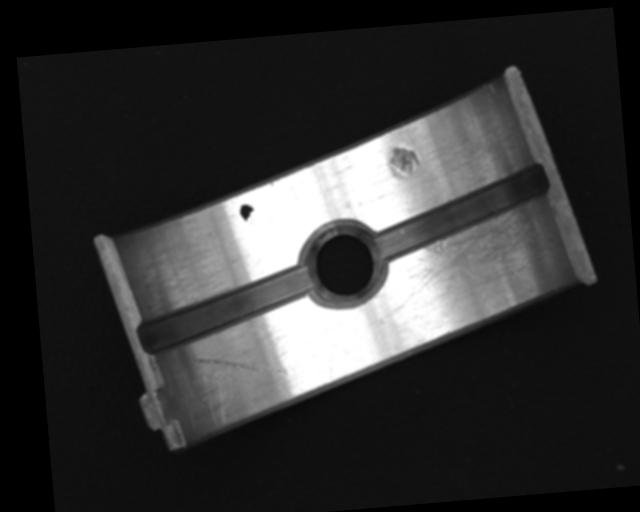blot: (238, 202, 255, 225)
bruise: (384, 144, 422, 182)
gap: (369, 164, 554, 261), (133, 262, 317, 355)
hole: (301, 222, 387, 307)
nick: (191, 349, 288, 383)
scratch: (384, 202, 562, 313)
